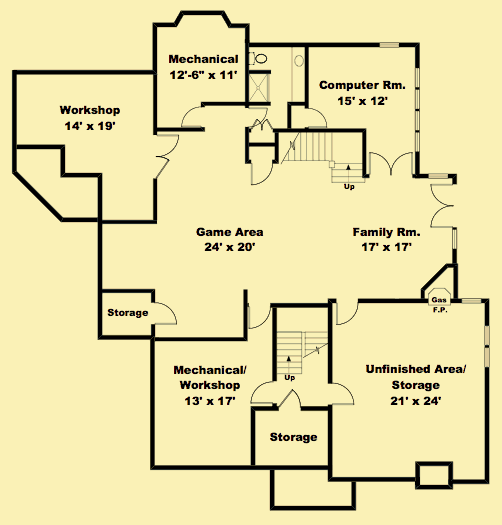door: (367, 149, 416, 179), (428, 183, 457, 232), (155, 134, 182, 181), (149, 302, 178, 327), (335, 298, 360, 327), (248, 161, 276, 186), (180, 104, 207, 128), (247, 306, 274, 330), (330, 383, 355, 407), (277, 388, 304, 409), (248, 381, 270, 404), (306, 107, 328, 129)
large_sink: (249, 46, 270, 68)
small_sink: (290, 45, 306, 103)
stairs: (283, 132, 365, 189), (276, 328, 327, 383)
window: (412, 63, 422, 150), (482, 324, 495, 371)
